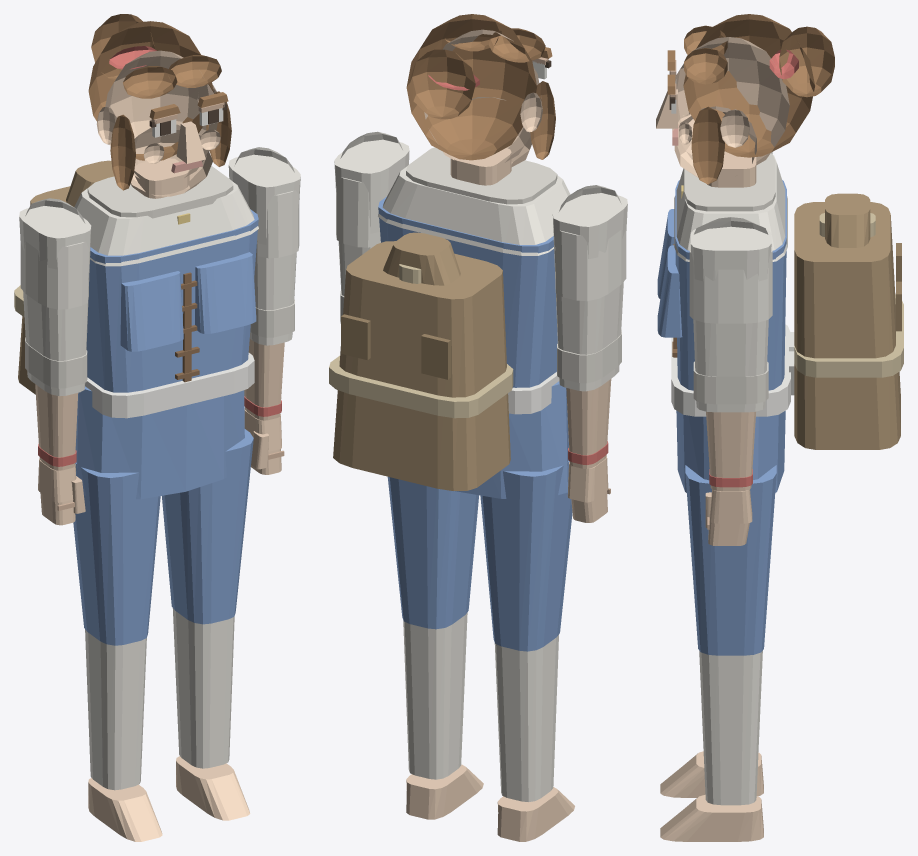
Rendered from female.glb.
3 views of the same model, side by side, from view 1: azimuth 30°, elevation 25°; view 2: azimuth 150°, elevation 25°; view 3: azimuth 270°, elevation 25° (orthographic). The views are drawn at different scales.
Parts seen in each view (by area): view 1: Bodice, Hips, Leg.R, Leg.L, Leg.R.Lower.Shin, Leg.L.Lower.Shin, Blouse, Arm.R, Arm.L, Bodice.Bust.R, Apron.Band, Bodice.Bust.L (+28 smaller); view 2: Load, Leg.R, Leg.L, Head.Hair, Bodice, Leg.R.Lower.Shin, Leg.L.Lower.Shin, Blouse, Arm.R, Hips, Load.Rope, Arm.R.Puff (+19 smaller); view 3: Load, Leg.L, Leg.L.Lower.Shin, Arm.L, Head.Hair, Head, Bodice, Arm.L.Puff, Hips, Leg.L.Lower.Foot, Arm.L.Lower, Blouse (+20 smaller).
Part boxes in pixels (x1,y1,x2,y2): Bodice: (86, 209, 258, 392); Hips: (75, 386, 244, 499); Leg.R: (73, 462, 160, 645); Leg.L: (162, 429, 253, 624); Leg.R.Lower.Shin: (85, 629, 146, 790); Leg.L.Lower.Shin: (172, 608, 234, 768); Blouse: (74, 181, 258, 266); Arm.R: (19, 206, 91, 396); Arm.L: (228, 154, 300, 345); Bodice.Bust.R: (120, 271, 183, 351); Apron.Band: (85, 353, 254, 418); Bodice.Bust.L: (195, 252, 256, 333); Load: (333, 241, 510, 490); Leg.R: (480, 460, 572, 651); Leg.L: (387, 476, 478, 629); Head.Hair: (406, 14, 536, 160); Bodice: (378, 196, 557, 387); Leg.R.Lower.Shin: (494, 635, 558, 801); Leg.L.Lower.Shin: (403, 612, 467, 779); Blouse: (378, 166, 570, 255); Arm.R: (552, 193, 627, 391); Hips: (455, 381, 568, 498); Load.Rope: (329, 355, 513, 418); Arm.R.Puff: (555, 229, 626, 301); Load: (794, 202, 900, 449); Leg.L: (685, 465, 776, 655); Leg.L.Lower.Shin: (699, 650, 762, 805); Arm.L: (690, 226, 771, 412); Head.Hair: (683, 14, 814, 157); Head: (672, 37, 789, 165); Bodice: (675, 180, 786, 390); Arm.L.Puff: (689, 243, 772, 323); Hips: (676, 410, 785, 492); Leg.L.Lower.Foot: (660, 794, 763, 841); Arm.L.Lower: (706, 411, 755, 491); Blouse: (674, 155, 787, 261).
Bounding box in the file's own units: 0.606 × 1.72 × 0.489.
